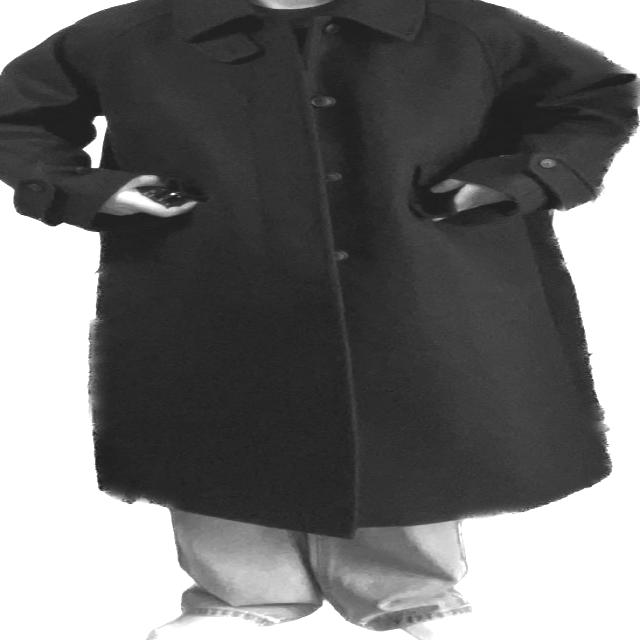coat: (0, 0, 640, 539), (172, 502, 466, 634)
